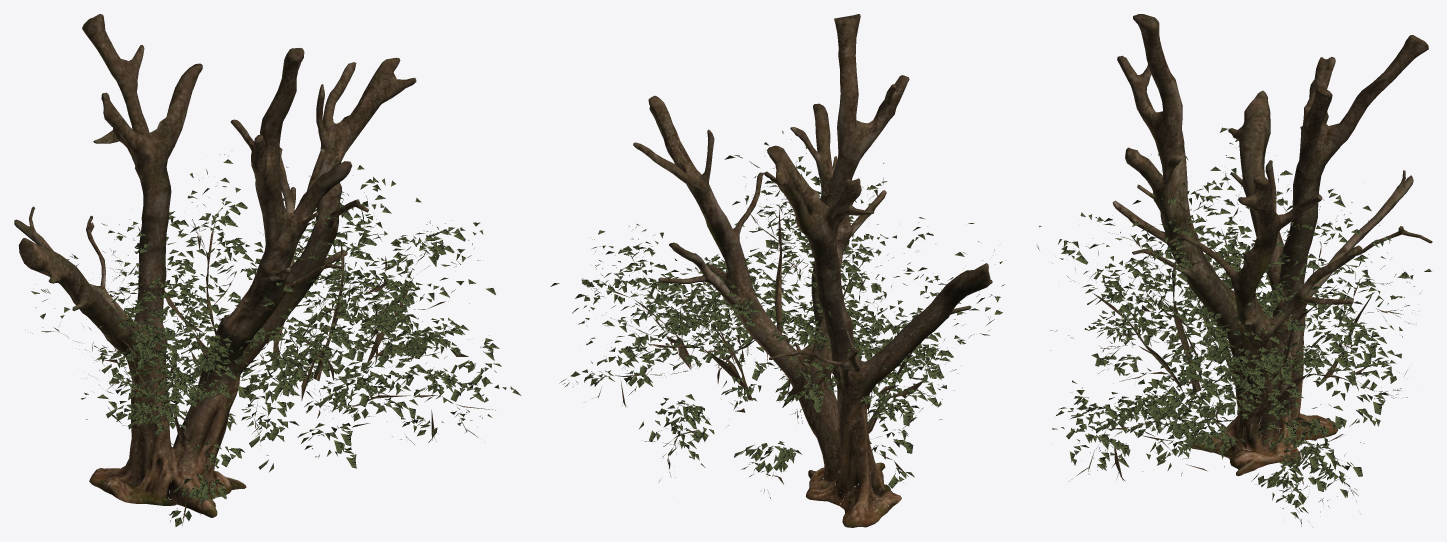
Rendered from tree_anc.glb.
The picture shows the model from 3 angles, left to right: view 1: azimuth 30°, elevation 25°; view 2: azimuth 150°, elevation 25°; view 3: azimuth 270°, elevation 25°; orthographic projection. The views are drawn at different scales.
Parts seen in each view (by area): view 1: jacaranda_tree_LOD0; view 2: jacaranda_tree_LOD0; view 3: jacaranda_tree_LOD0.
Part boxes in pixels (x1,y1,x2,y2): jacaranda_tree_LOD0: (14,14,521,526); jacaranda_tree_LOD0: (550,14,1004,527); jacaranda_tree_LOD0: (1037,14,1432,526).
Bounding box in the file's own units: 23.18 × 23.18 × 18.04.
Materials: 3 (3 with a texture image).
